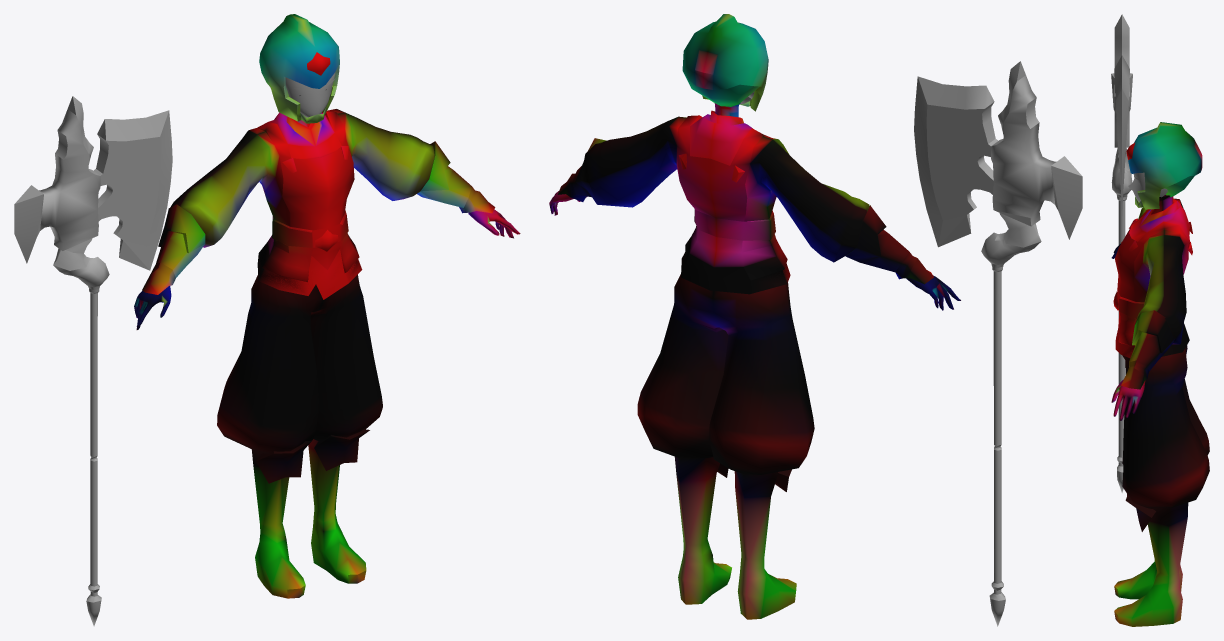
File: m_012_axe_soldier_6_view.fbx
The picture shows the model from 3 angles, left to right: view 1: azimuth 30°, elevation 25°; view 2: azimuth 150°, elevation 25°; view 3: azimuth 270°, elevation 25°; orthographic projection. The views are drawn at different scales.
Visible parts, largest first — view 1: m_012_axe_soldier_6; view 2: m_012_axe_soldier_6; view 3: m_012_axe_soldier_6.
Part boxes in pixels (box(x1,y1,x2,y2)): m_012_axe_soldier_6: box(14, 14, 520, 626); m_012_axe_soldier_6: box(549, 14, 1082, 626); m_012_axe_soldier_6: box(1111, 14, 1209, 626).
Bounding box in the file's own units: 215 × 227 × 41.81.
